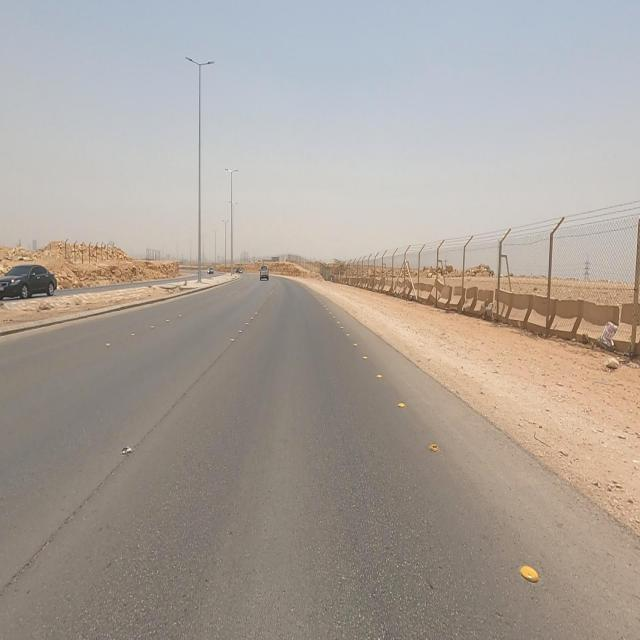debris: (580, 296, 638, 370)
